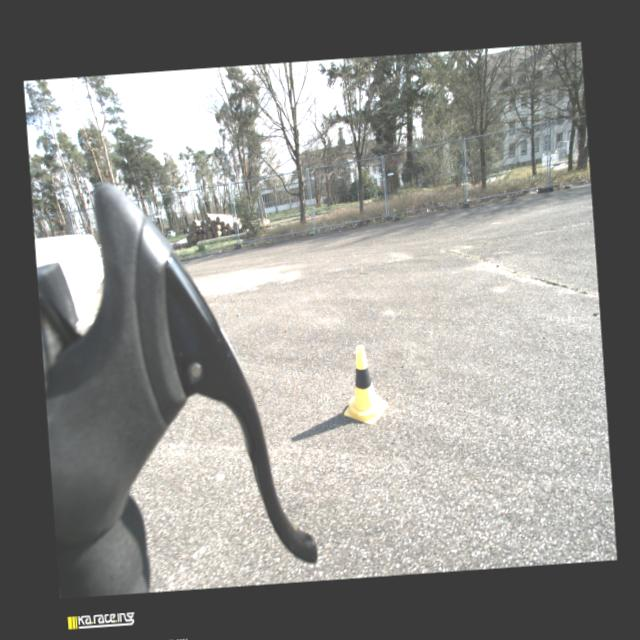yellow_cone: (339, 344, 388, 426)
